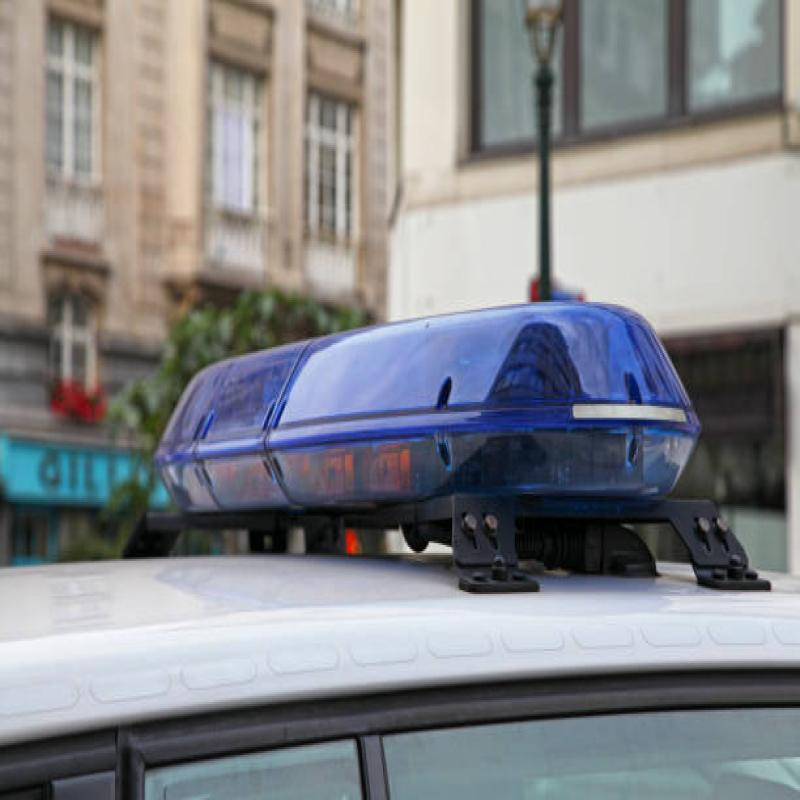AmbulanceSiren: (142, 308, 669, 556)
